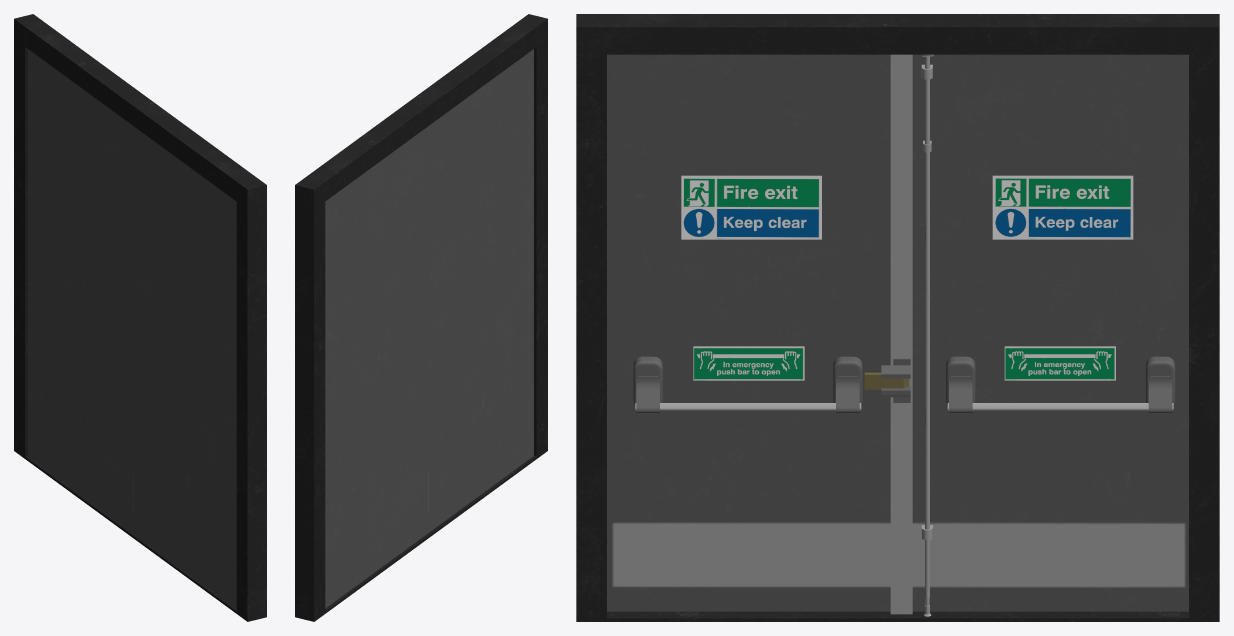
The model's file is Fire Exit.fbx.
The picture shows the model from 3 angles, left to right: view 1: azimuth 30°, elevation 25°; view 2: azimuth 150°, elevation 25°; view 3: azimuth 270°, elevation 25°; orthographic projection. The views are drawn at different scales.
Visible parts, largest first — view 1: Low_2, Low_1, Low_3; view 2: Low_1, Low_2, Low_3; view 3: Low_2, Low_1, Low_3, Low_9, Low_6, Low_5, Low_7, Low_4.
Part boxes in pixels (x1,y1,x2,y2): Low_2: [28, 49, 133, 532]; Low_1: [133, 126, 236, 608]; Low_3: [14, 14, 266, 621]; Low_1: [428, 49, 533, 532]; Low_2: [325, 126, 428, 608]; Low_3: [295, 14, 547, 621]; Low_2: [890, 54, 1188, 614]; Low_1: [607, 54, 890, 611]; Low_3: [576, 14, 1219, 621]; Low_9: [681, 175, 1133, 380]; Low_6: [633, 356, 1175, 413]; Low_5: [921, 54, 933, 616]; Low_7: [635, 403, 1173, 410]; Low_4: [881, 358, 910, 402].
Bounding box in the file's own units: 168 × 2359 × 2310.
